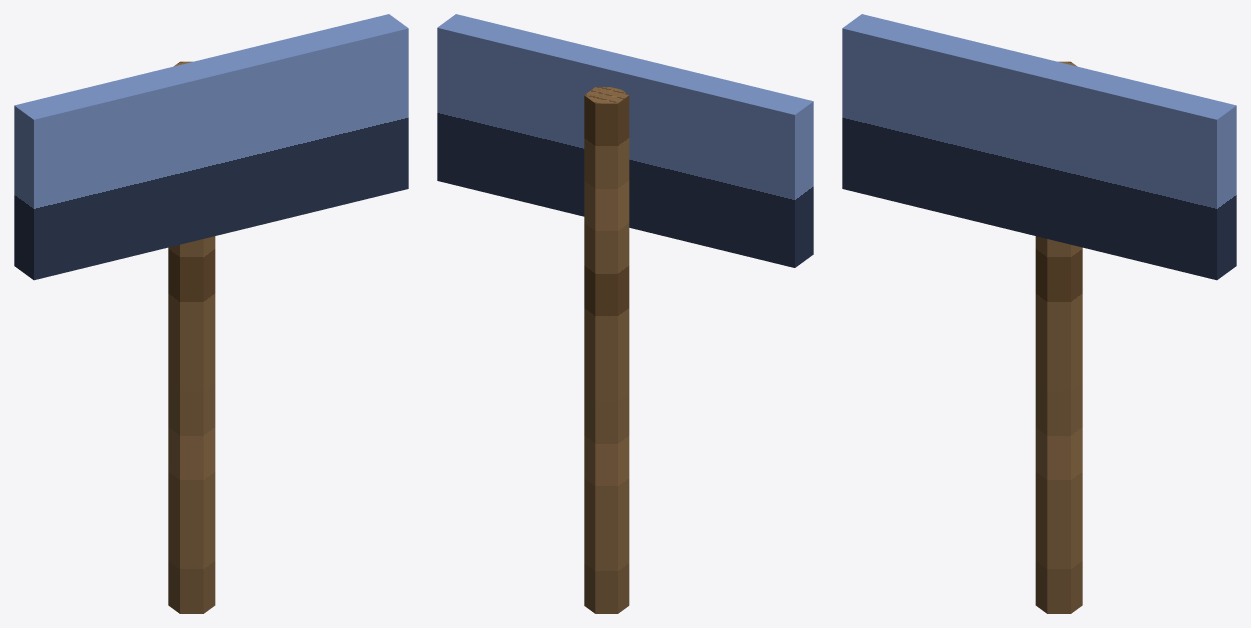
Rendered from signpost.glb.
3 renders of one model, left to right at view 1: azimuth 30°, elevation 25°; view 2: azimuth 150°, elevation 25°; view 3: azimuth 330°, elevation 25°, orthographic. The views are drawn at different scales.
Visible parts, largest first — view 1: signpost; view 2: signpost; view 3: signpost.
Part boxes in pixels (x1,y1,x2,y2): signpost: (14, 14, 408, 613); signpost: (437, 14, 813, 613); signpost: (842, 14, 1236, 613).
Size of the model in its own units: 1.1 by 1.55 by 0.21.
Materials: 2 (2 with a texture image).
